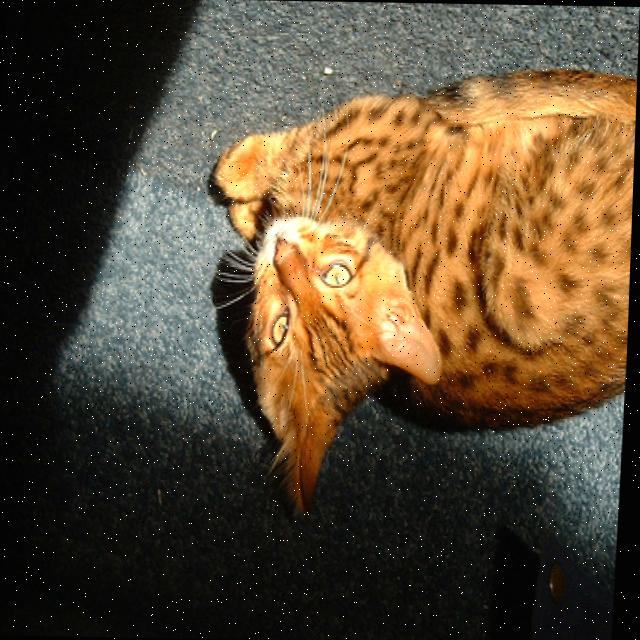Bengal: (191, 59, 638, 530)
